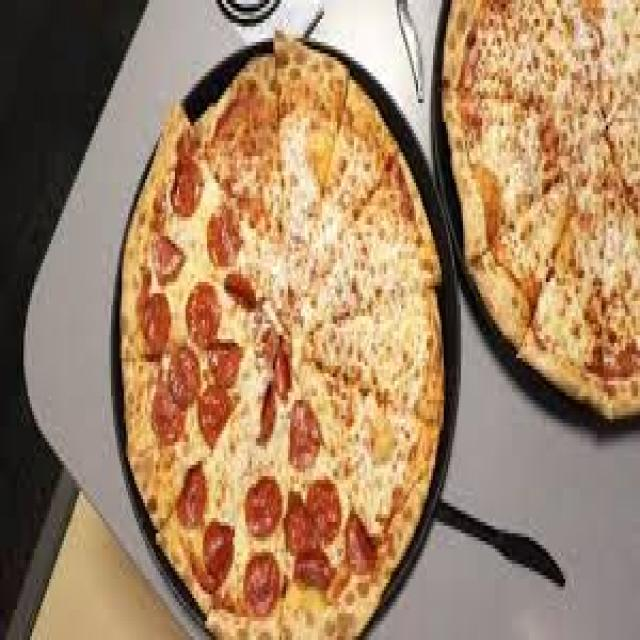피자: (111, 34, 450, 640), (437, 0, 640, 427)
